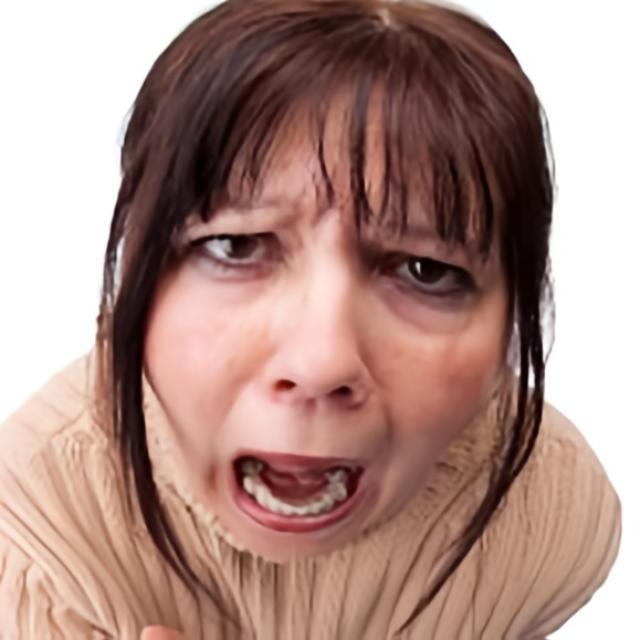fear: (141, 78, 512, 565)
